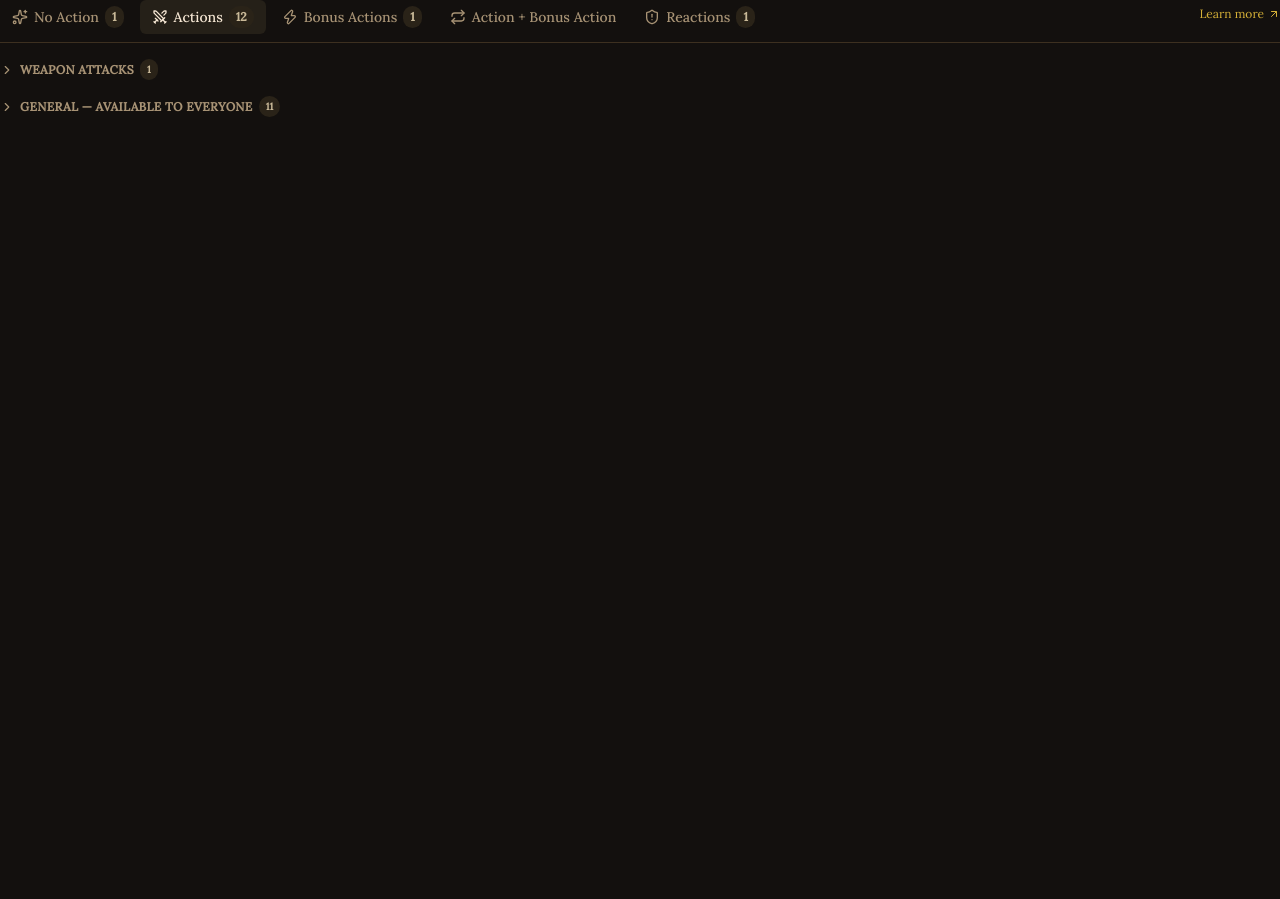
ActionEconomyTab › shows Action Surge under the No Action tab (not under Actions) at level 2
Click the button "Weapon Attacks 1": (77, 69) [0,59,1279,80]
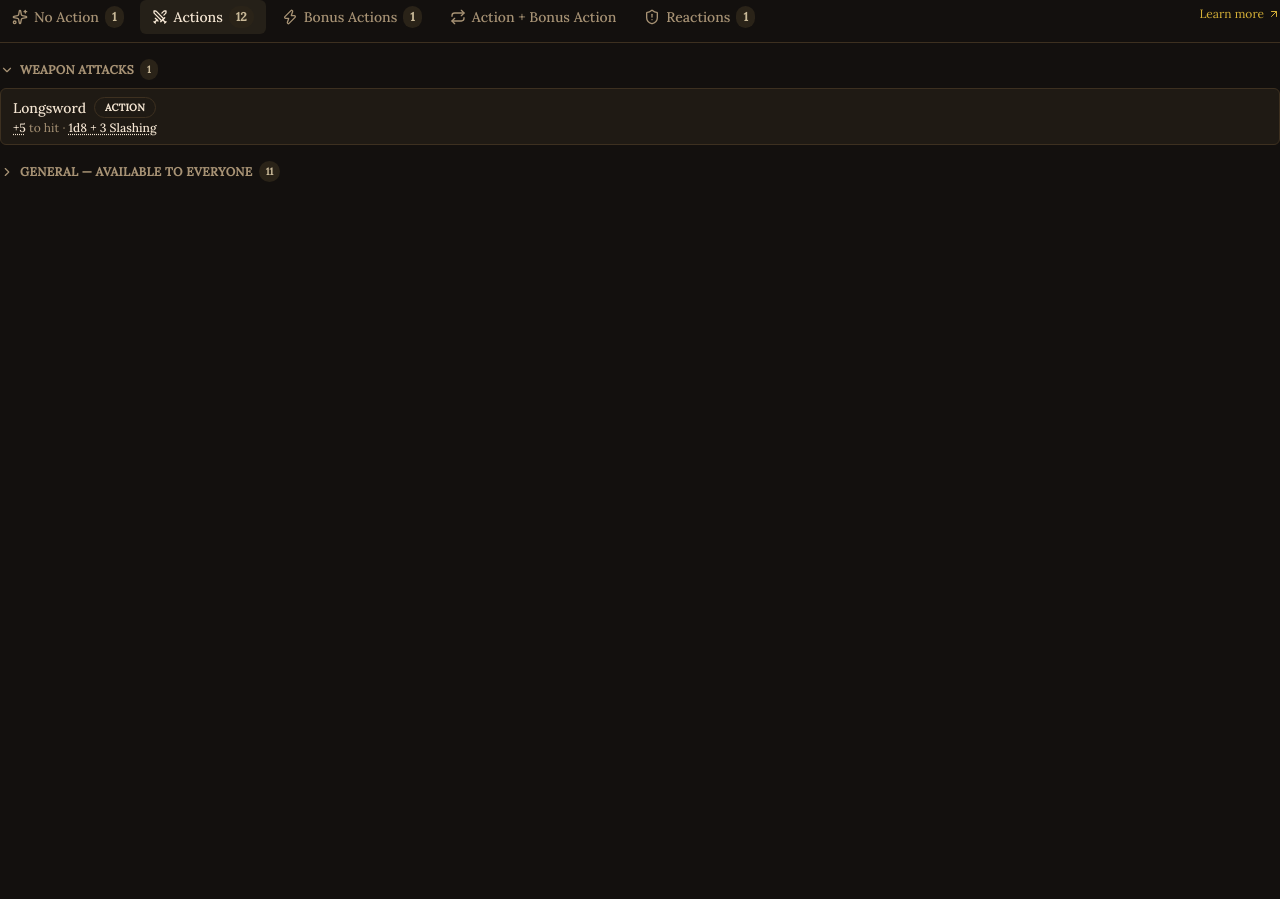
Click the button "General — available to everyone 11": (136, 171) [0,161,1279,182]
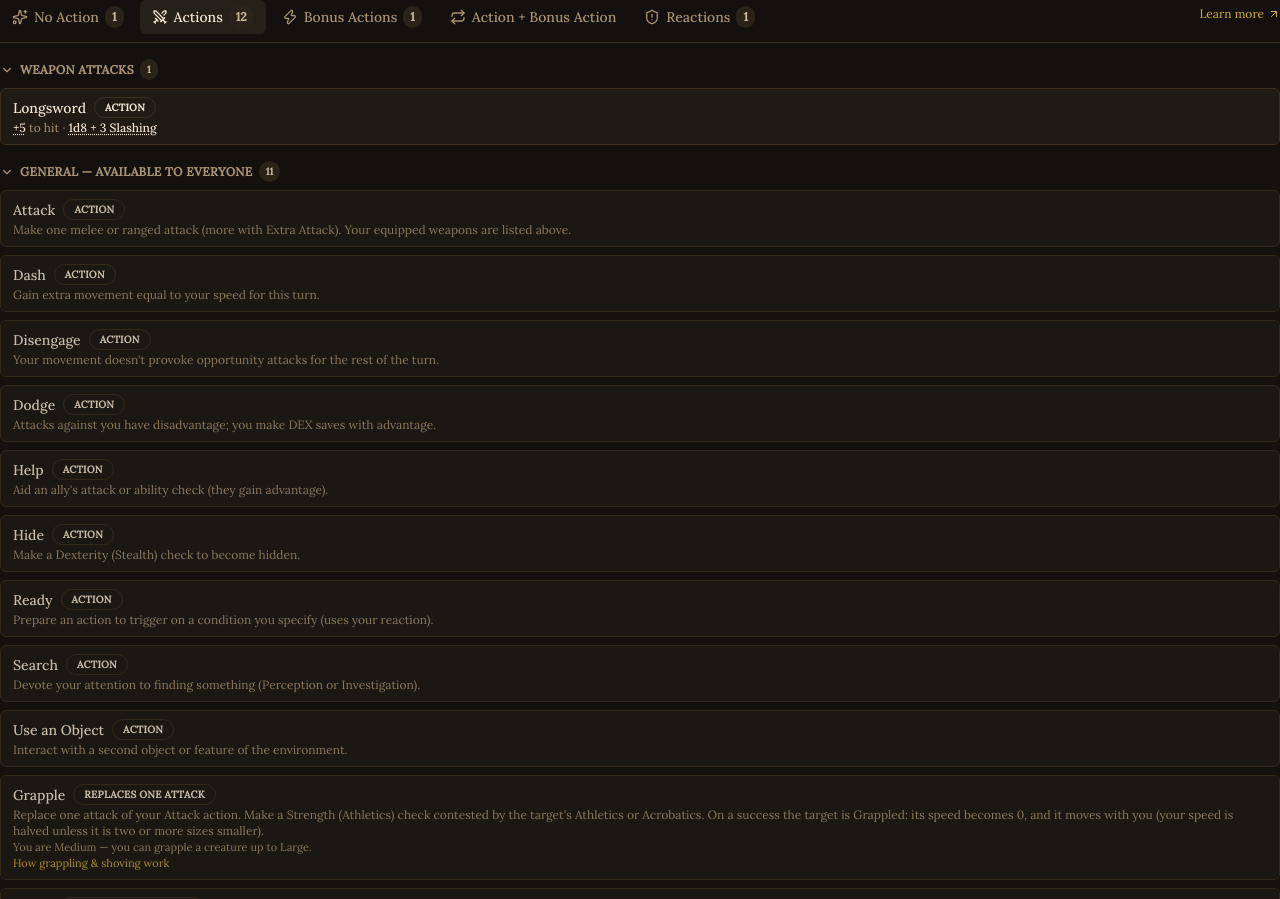
Expected: the text "Action Surge" is not shown
Click the button with test id "ae-subtab-no_action": (68, 17) [0,0,136,34]
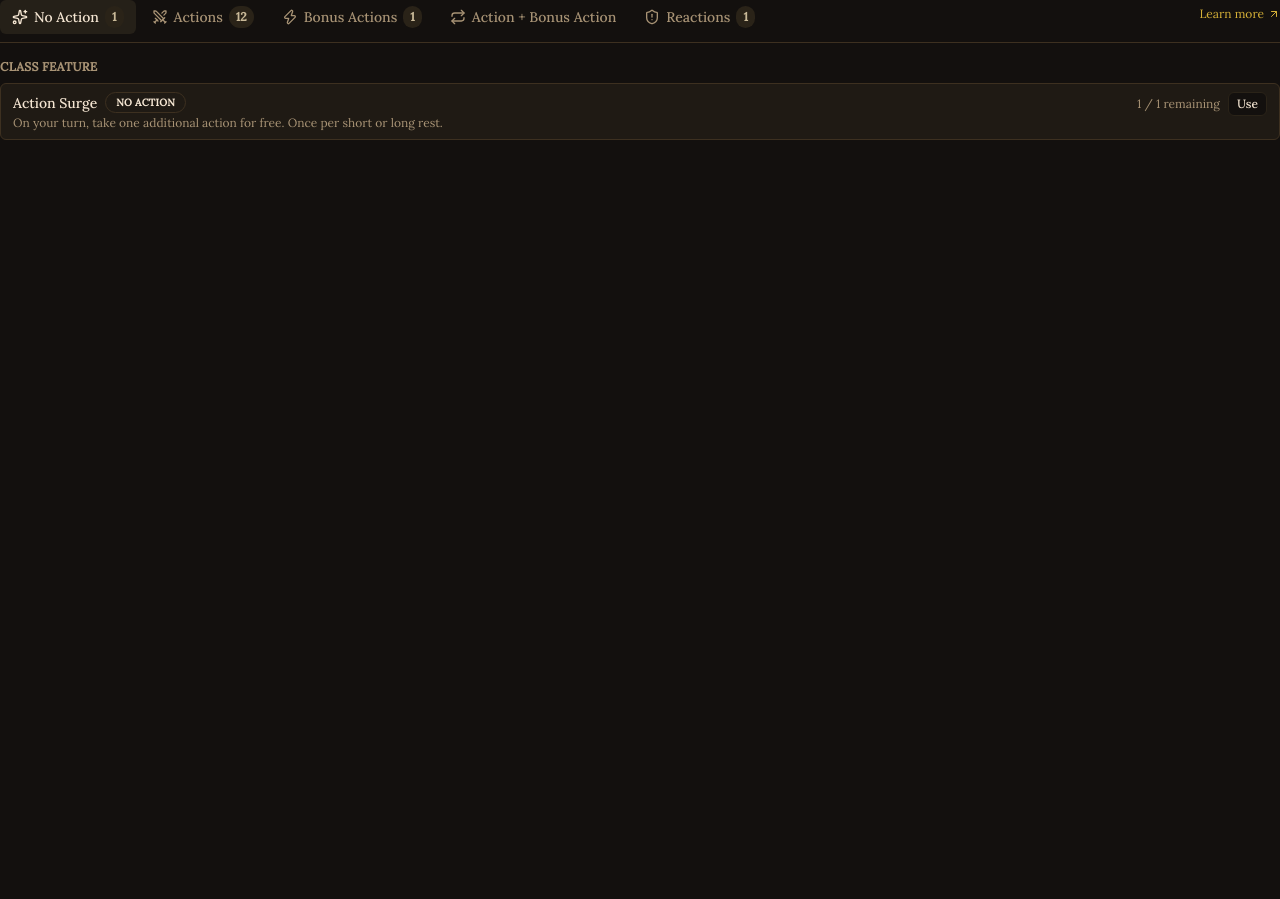
Result: the text "Action Surge" is shown at [13,92,97,112]
